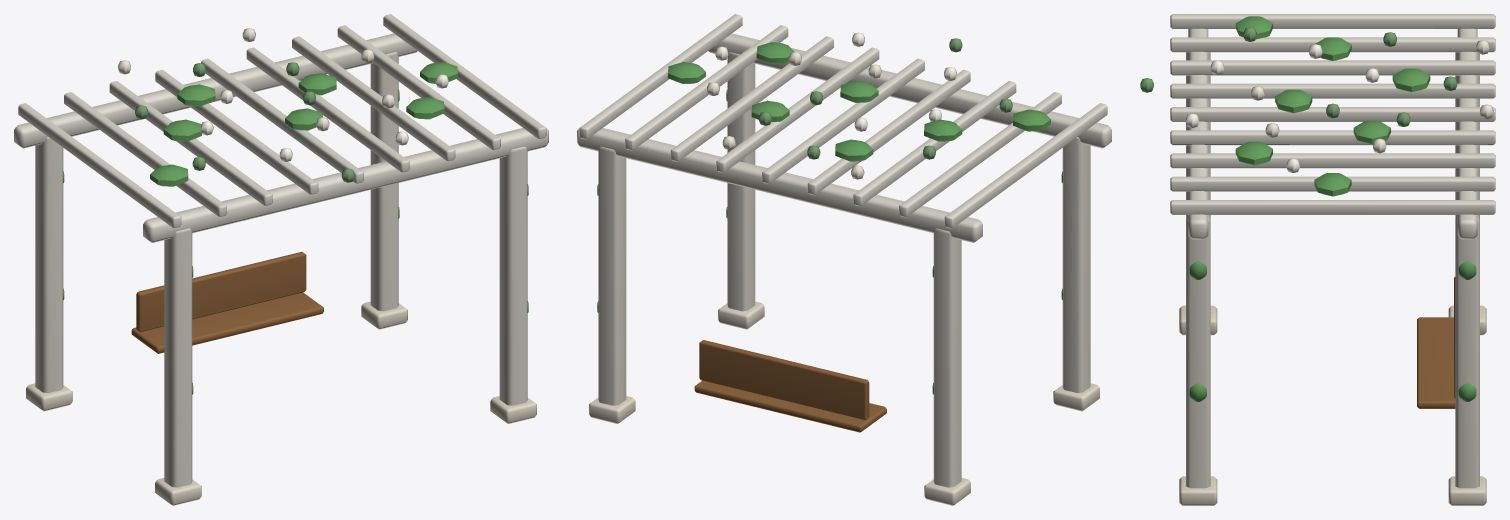
The model's file is pergola_flowers.glb.
The picture shows the model from 3 angles, left to right: view 1: azimuth 30°, elevation 25°; view 2: azimuth 150°, elevation 25°; view 3: azimuth 270°, elevation 25°; orthographic projection. The views are drawn at different scales.
Parts seen in each view (by area): view 1: pergola_flowers; view 2: pergola_flowers; view 3: pergola_flowers.
Boxes of the visible parts, left/top/right/bottom form: pergola_flowers: left=14, top=14, right=548, bottom=505; pergola_flowers: left=577, top=14, right=1111, bottom=505; pergola_flowers: left=1140, top=14, right=1495, bottom=505.
Bounding box in the file's own units: 4.3 × 3.25 × 3.17.
